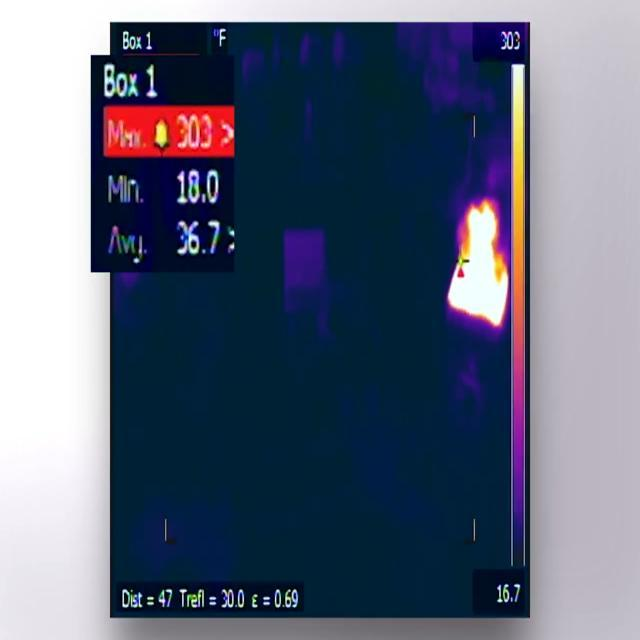fire: (449, 197, 511, 330)
